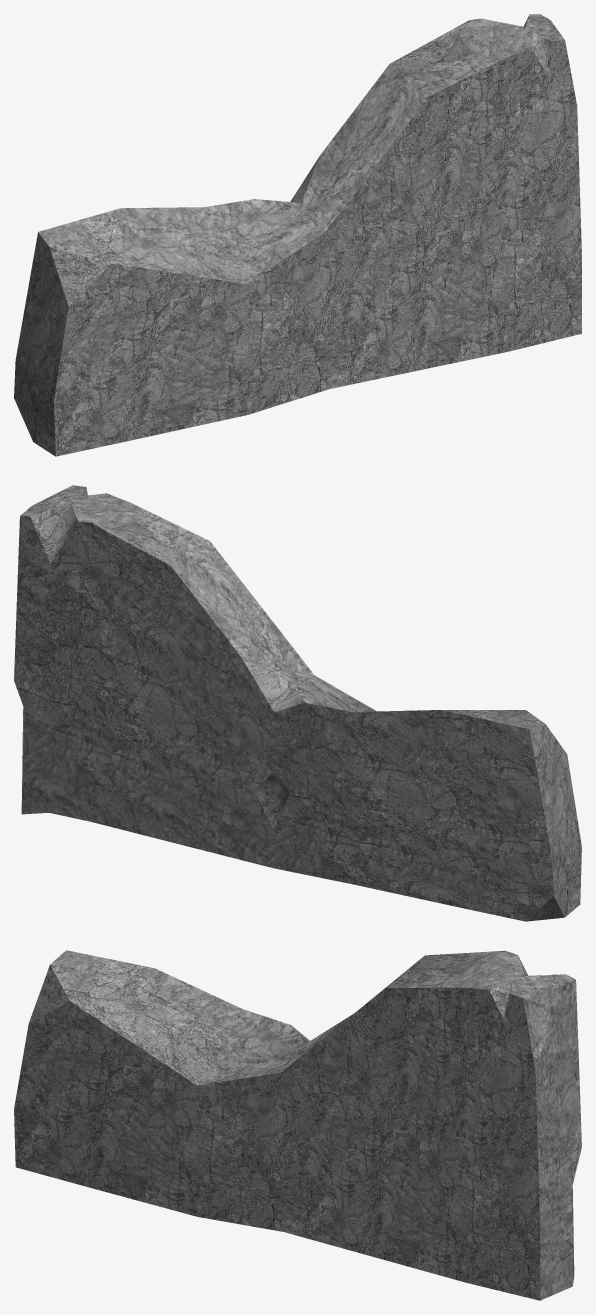
The model's file is materials_3_wall_9.fbx.
3 views of the same model, one above another, from view 1: azimuth 30°, elevation 25°; view 2: azimuth 150°, elevation 25°; view 3: azimuth 330°, elevation 25° (orthographic).
Visible parts, largest first — view 1: materials_3_wall_9; view 2: materials_3_wall_9; view 3: materials_3_wall_9.
Part boxes in pixels (x1,y1,x2,y2): materials_3_wall_9: (14,14,581,456); materials_3_wall_9: (14,485,581,921); materials_3_wall_9: (14,950,581,1300).
Bounding box in the file's own units: 555 × 306 × 81.71.
